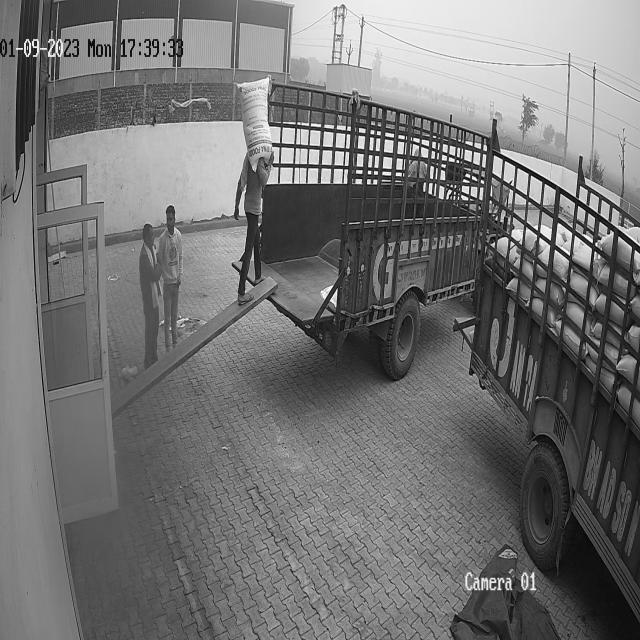sack: (236, 74, 272, 174)
